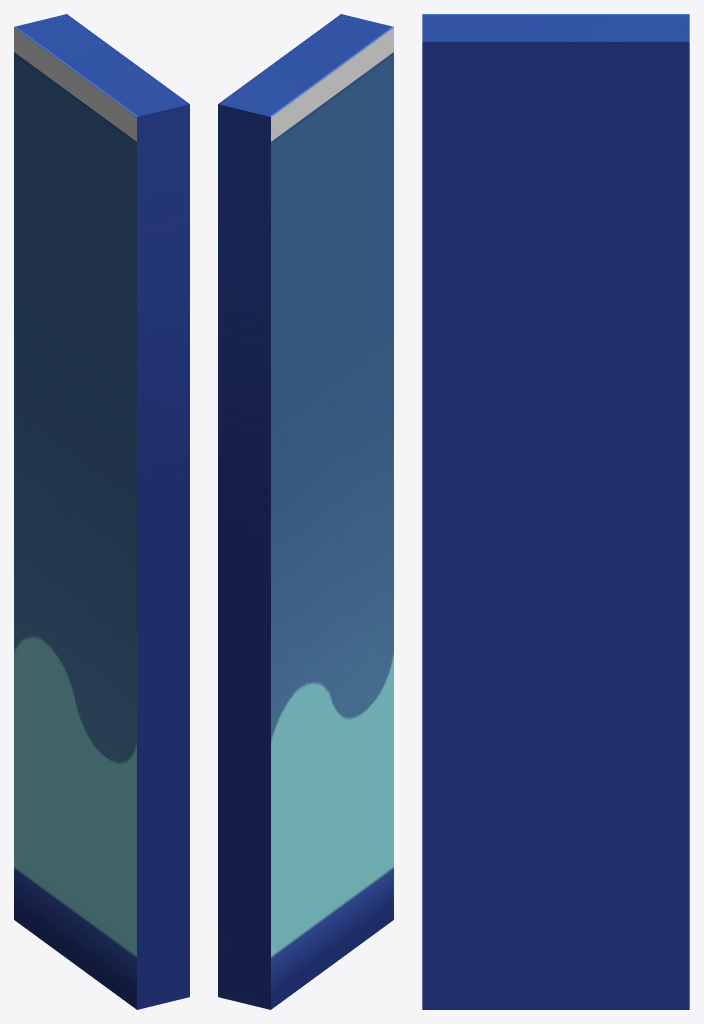
The model's file is my_poolparty_01_b_wall_right.glb.
3 views of the same model, side by side, from view 1: azimuth 30°, elevation 25°; view 2: azimuth 150°, elevation 25°; view 3: azimuth 270°, elevation 25° (orthographic). The views are drawn at different scales.
Visible parts, largest first — view 1: my_poolparty_01_b_wall_right; view 2: my_poolparty_01_b_wall_right; view 3: my_poolparty_01_b_wall_right.
Part boxes in pixels (x1,y1,x2,y2): my_poolparty_01_b_wall_right: (14,14,189,1009); my_poolparty_01_b_wall_right: (218,14,393,1009); my_poolparty_01_b_wall_right: (422,14,689,1009).
Size of the model in its own units: 0.00297 by 0.048 by 0.012.
Materials: 1 (1 with a texture image).
